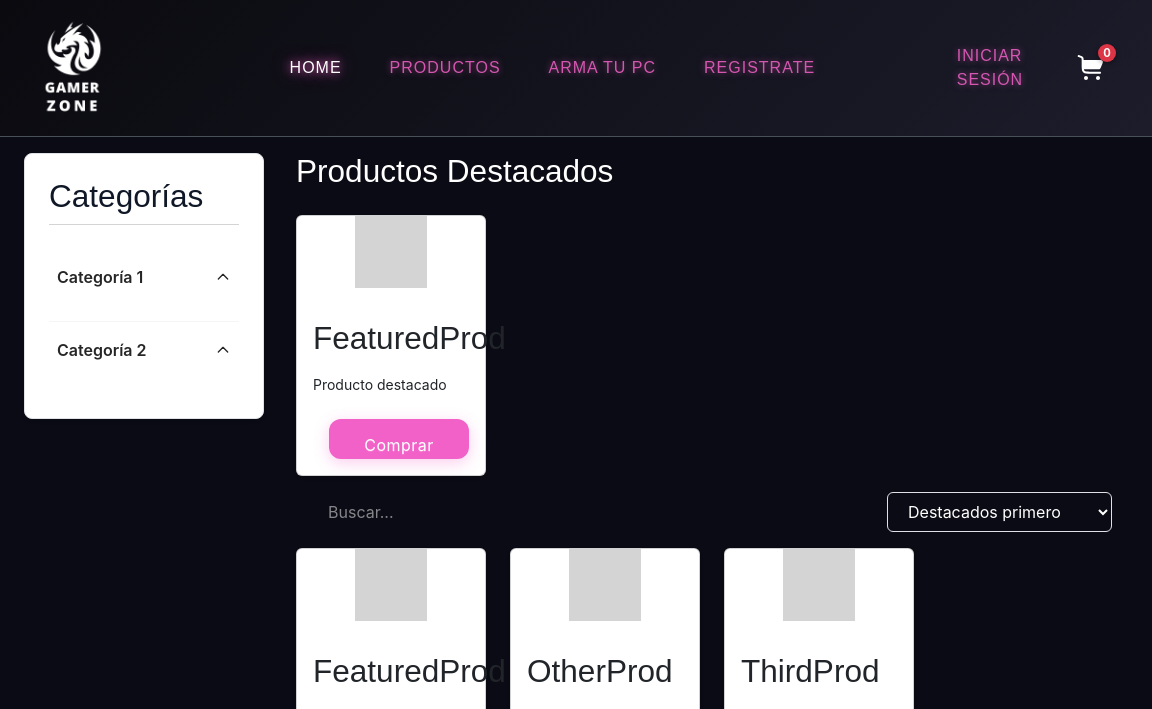
Test: ProductPage › limpia la busqueda cuando se borra el texto
The width and height of the screenshot is (1152, 709).
Type "Featured" into the field with placeholder "Buscar...".
click(440, 512); type("Featured")  # box [312, 492, 568, 532]
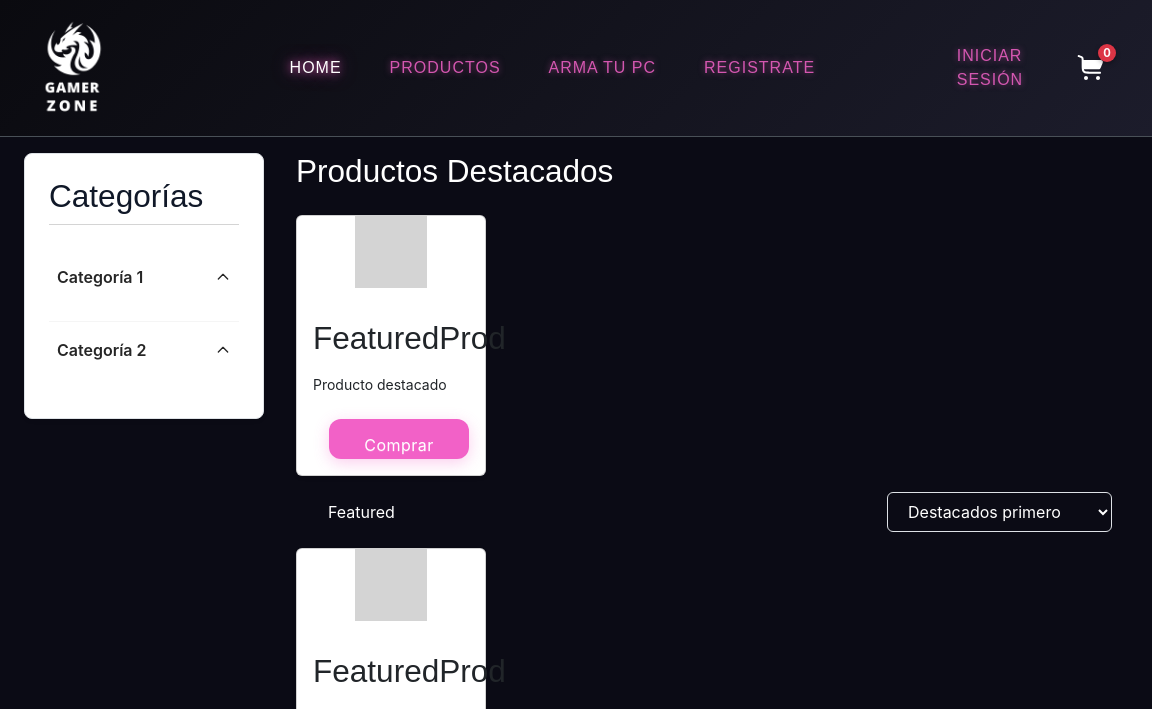
Check: the heading "OtherProd" is gone
Clear the field with placeholder "Buscar..." at (440, 512), box [312, 492, 568, 532]
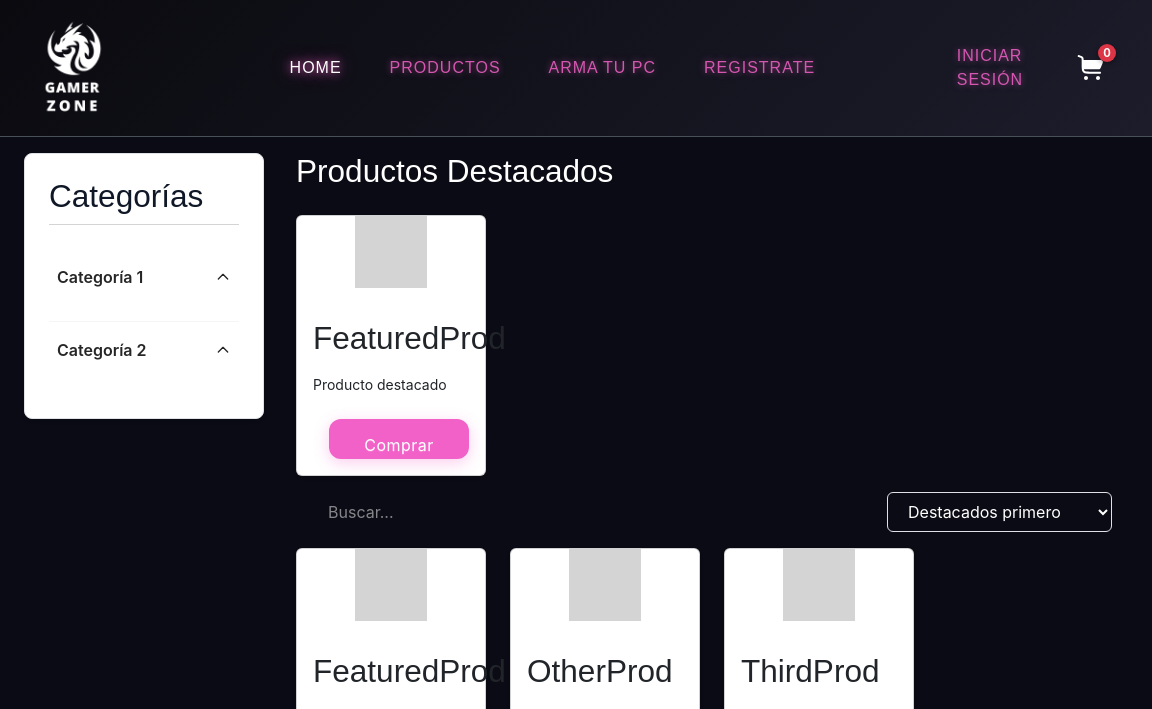
Check: the heading "FeaturedProd" below "Productos Destacados" is shown, box [313, 320, 506, 356]
Check: the heading "OtherProd" is shown, box [527, 653, 683, 691]
